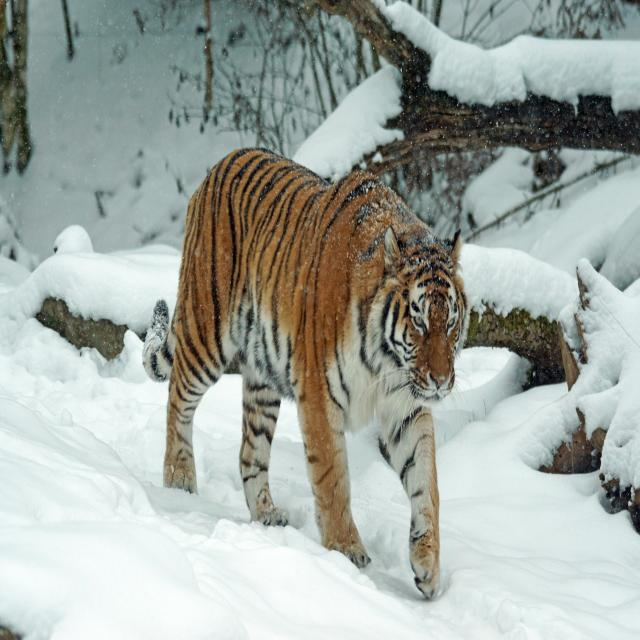Tiger: (143, 146, 470, 600)
